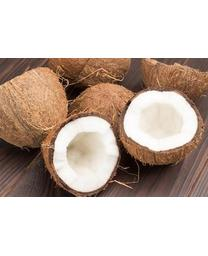coconut: (117, 86, 204, 165), (40, 114, 121, 196), (1, 67, 68, 150), (69, 83, 136, 146)
